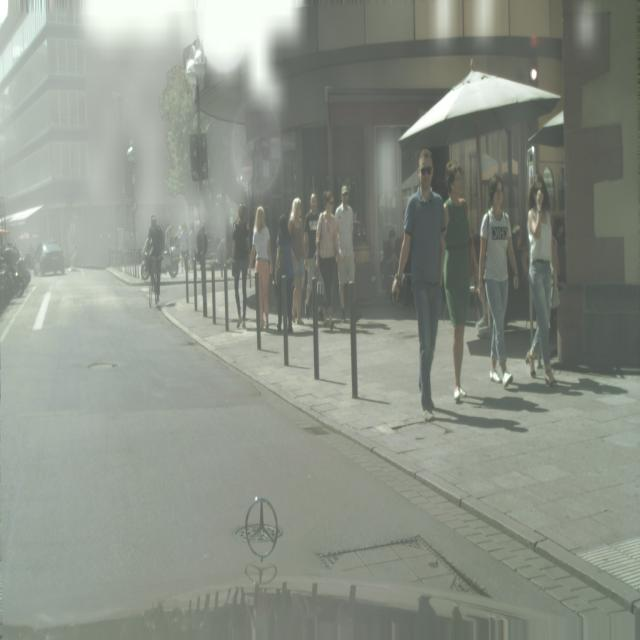car: (141, 216, 165, 307)
person: (392, 147, 448, 424), (478, 176, 520, 388), (443, 161, 478, 403), (526, 178, 558, 388), (315, 189, 341, 326), (335, 184, 357, 323), (248, 206, 272, 331), (273, 211, 295, 332), (231, 201, 251, 332), (289, 198, 307, 327), (302, 192, 320, 318), (180, 222, 189, 273)
truck: (0, 228, 31, 297), (37, 241, 65, 276)
